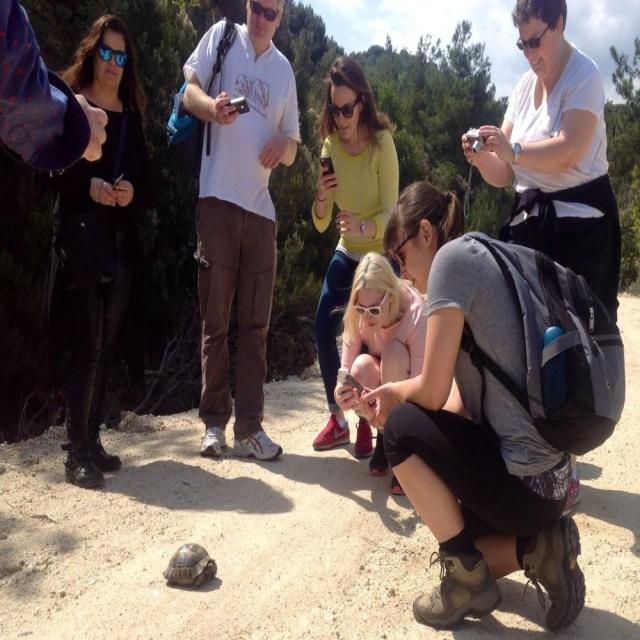body: (351, 184, 589, 636), (460, 0, 624, 519), (181, 0, 300, 461), (52, 12, 146, 492), (309, 48, 403, 464), (334, 248, 428, 498), (1, 0, 110, 190)
